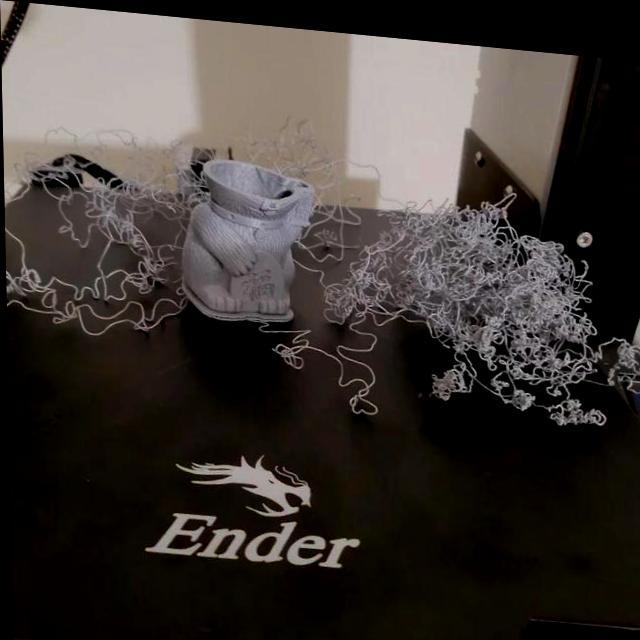spaghetti: (430, 261, 582, 406), (12, 266, 162, 336), (60, 164, 167, 258), (332, 246, 427, 323), (452, 209, 556, 271), (565, 314, 640, 385), (294, 187, 362, 256), (392, 206, 462, 264), (326, 343, 378, 416), (266, 325, 320, 362)
